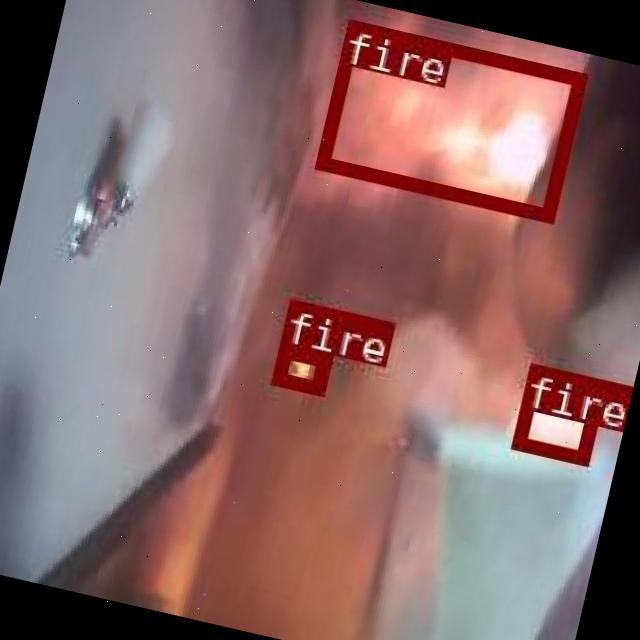fire: (312, 17, 584, 219), (509, 361, 605, 462), (270, 342, 328, 391)
